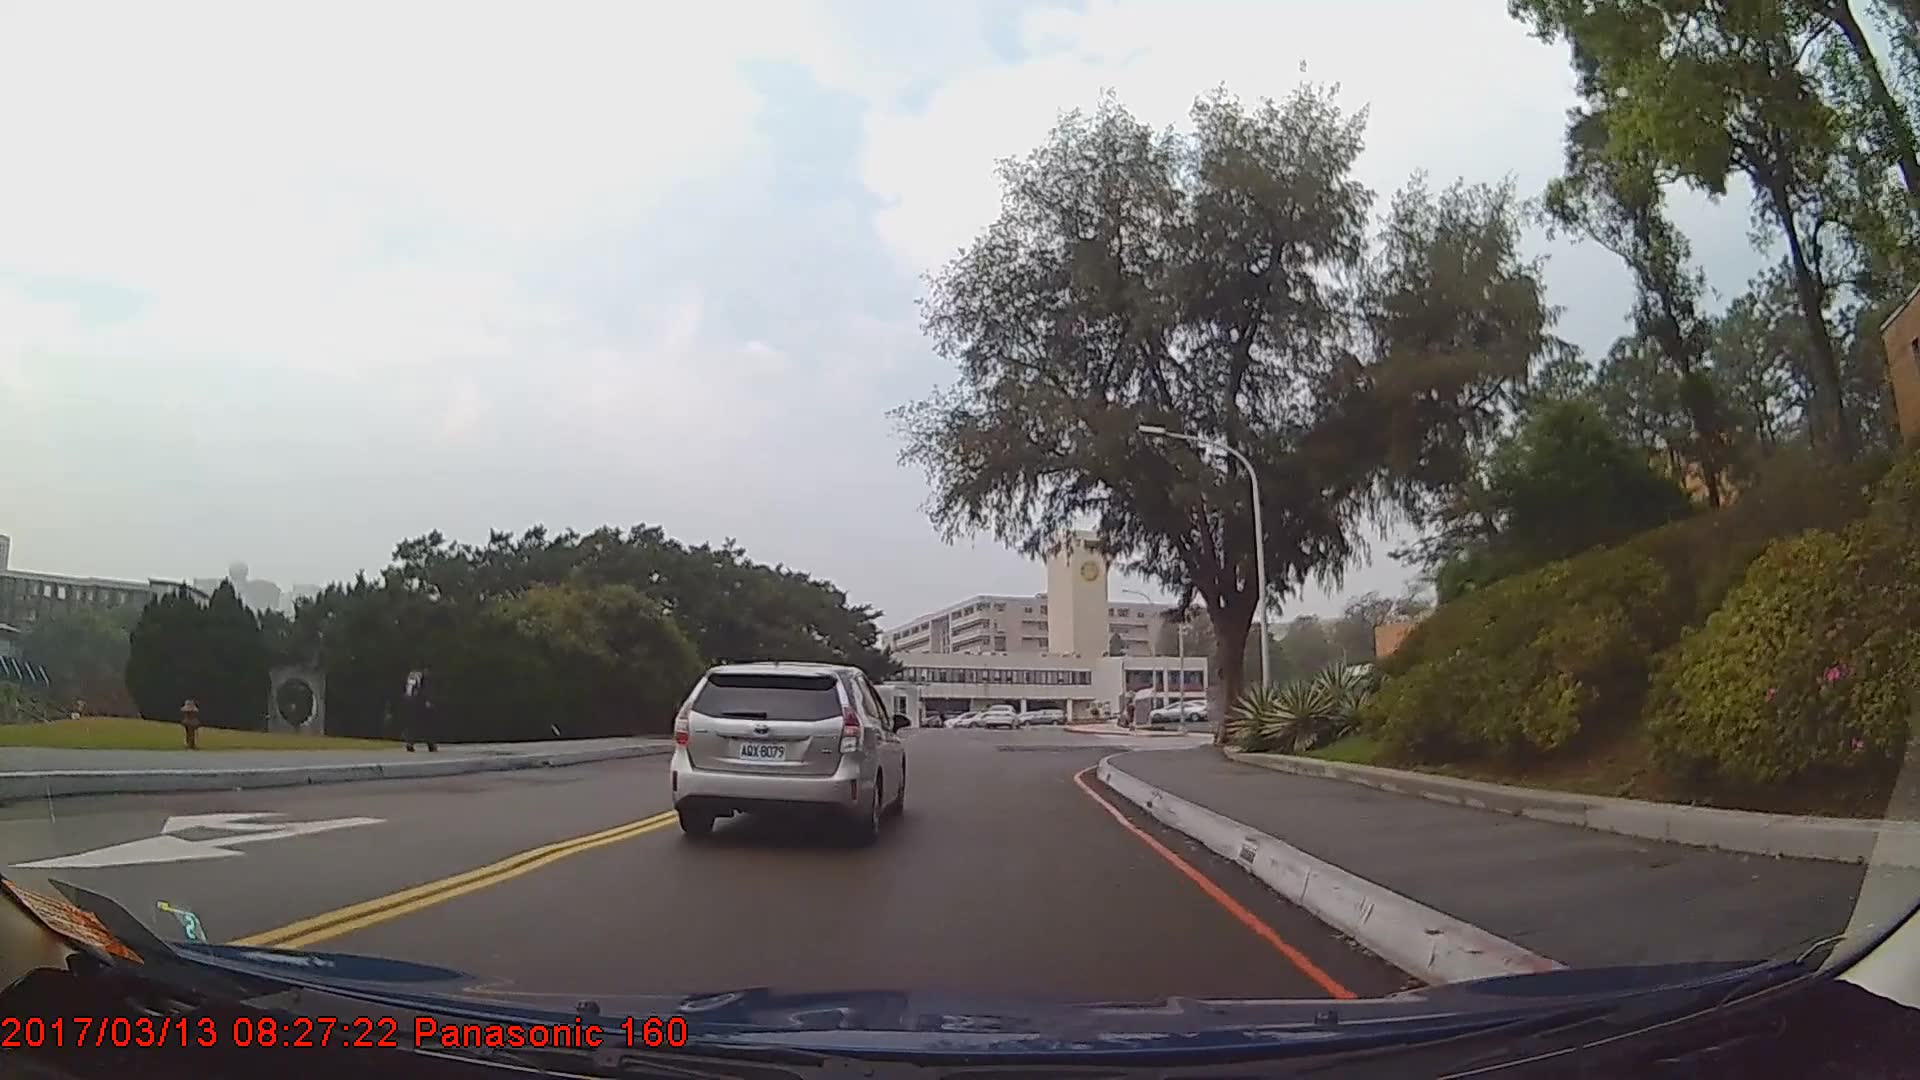pedestrian: (390, 651, 437, 755)
vehicle: (668, 658, 905, 842), (1146, 701, 1206, 723), (979, 701, 1019, 728)
